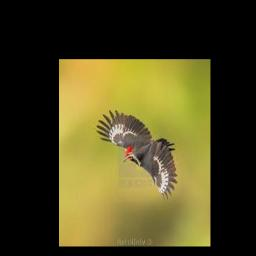Woodpecker: (96, 110, 178, 200)
